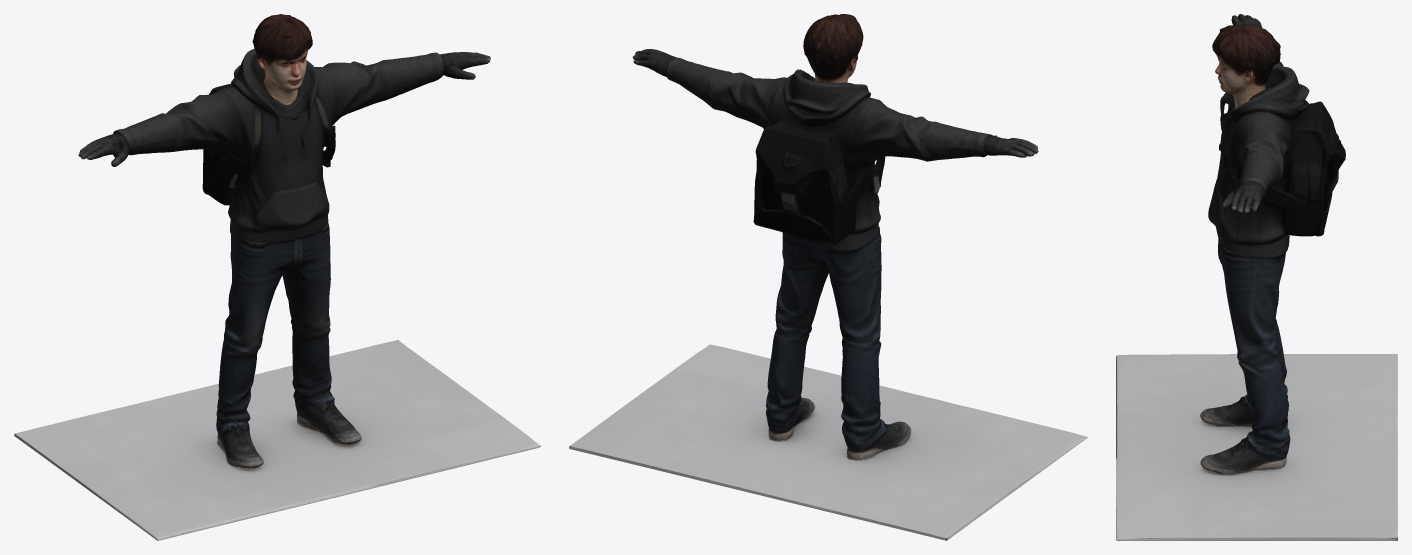
The model's file is alex_trellis.glb.
3 views of the same model, side by side, from view 1: azimuth 30°, elevation 25°; view 2: azimuth 150°, elevation 25°; view 3: azimuth 270°, elevation 25° (orthographic).
Parts seen in each view (by area): view 1: world; view 2: world; view 3: world.
Part boxes in pixels (x1,y1,x2,y2): world: (14,14,540,540); world: (569,14,1087,540); world: (1116,14,1397,540).
Size of the model in its own units: 1 by 0.9997 by 0.6065.
1 material, 1 textured.
